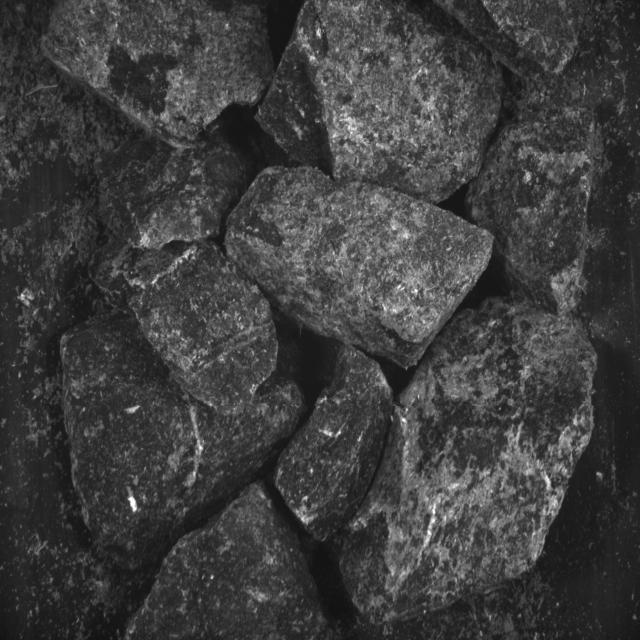Stones: (341, 300, 597, 621), (441, 1, 640, 352), (62, 314, 306, 569), (226, 167, 494, 370), (257, 1, 502, 204), (42, 1, 275, 147), (94, 241, 279, 415), (127, 484, 329, 640), (276, 347, 394, 542), (101, 140, 247, 249)
